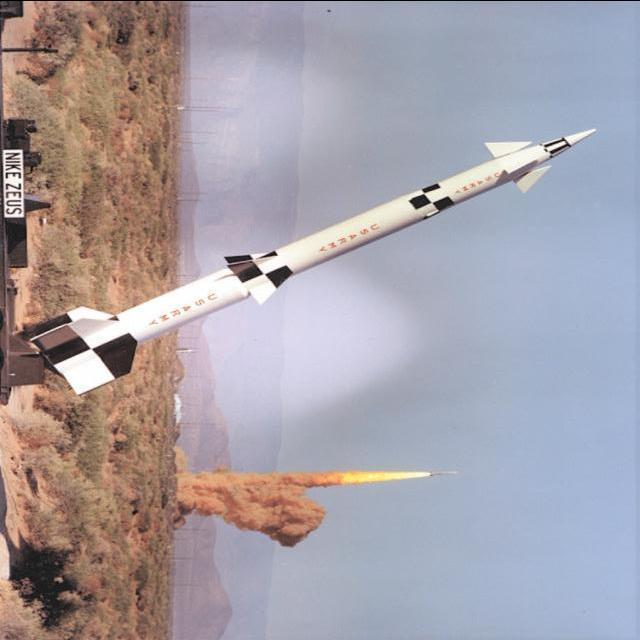missile: (29, 122, 602, 404), (422, 469, 463, 478)
